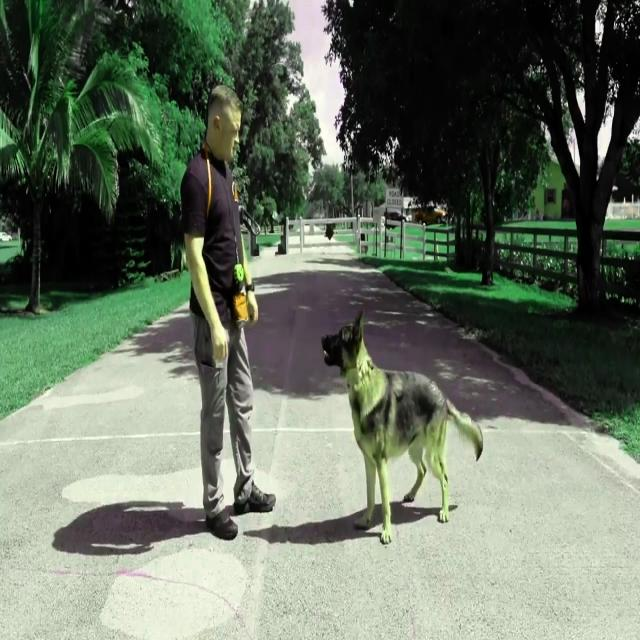Unleashed_Dog: (203, 310, 483, 543)
